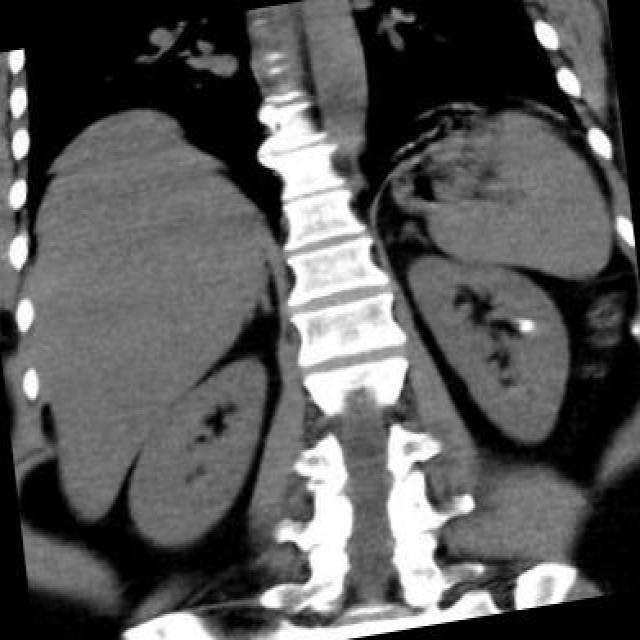Tas_Var: (517, 317, 534, 333)
